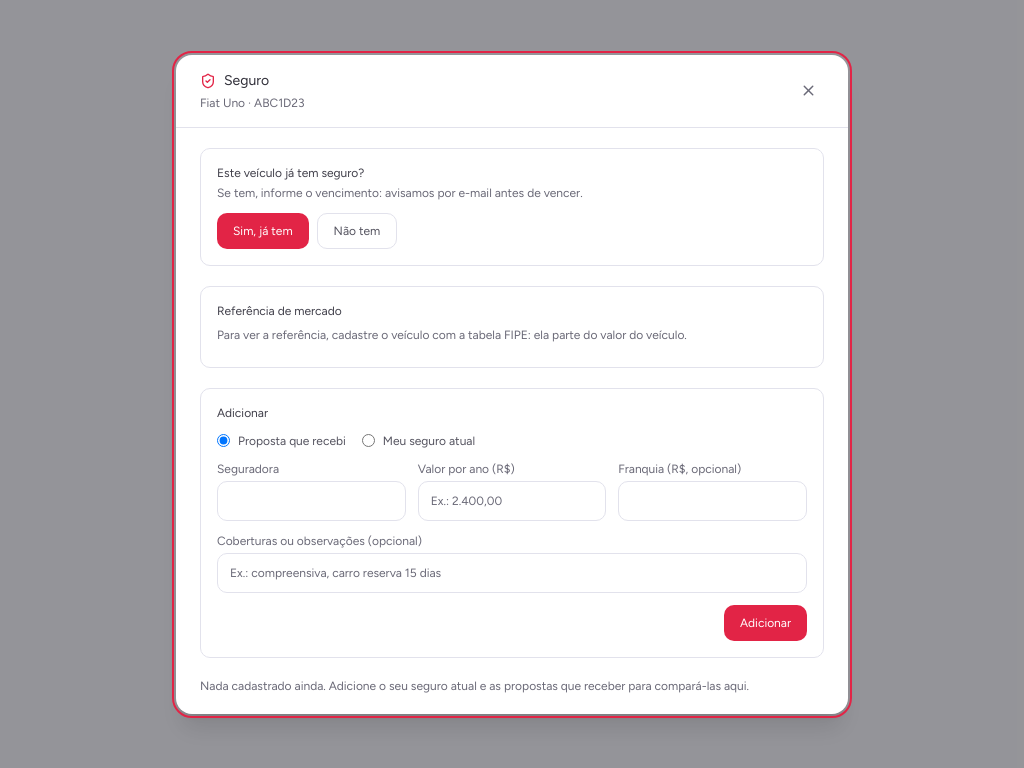
SegurosModal: este veículo já tem seguro? › responder Sim guarda a resposta e já deixa o cadastro do seguro atual com o vencimento
Click the button "Sim, já tem". click: (263, 230)
box: [217,212,309,248]
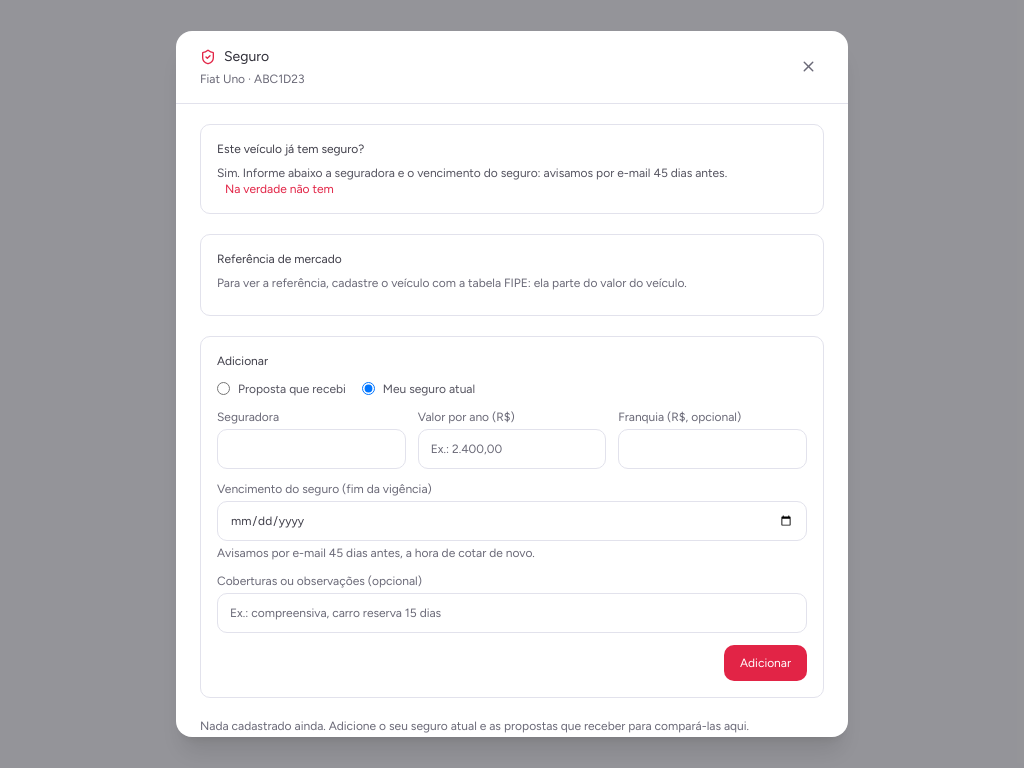
Expected: the text "Informe abaixo a seguradora e o vencimento" is shown, [217,166,727,180]
Expected: the radio button labelled "Meu seguro atual" is checked, [362,382,375,395]
Expected: the date field labelled "Vencimento do seguro" is shown, [217,501,807,541]
